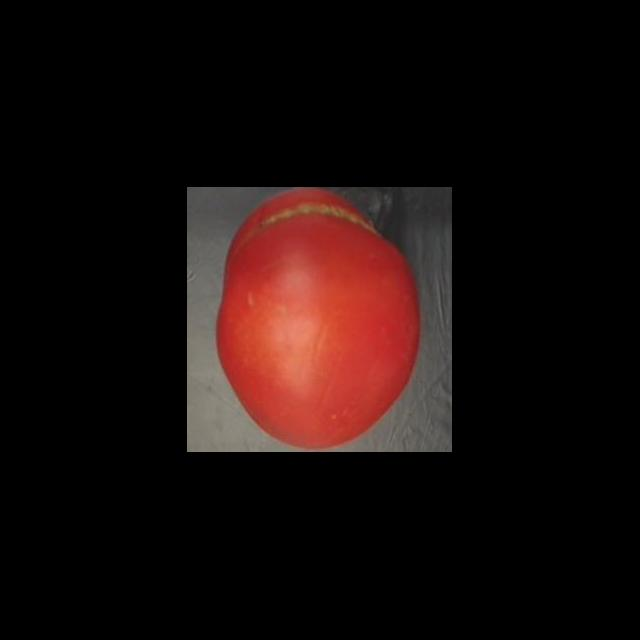tomato: (213, 188, 424, 452)
